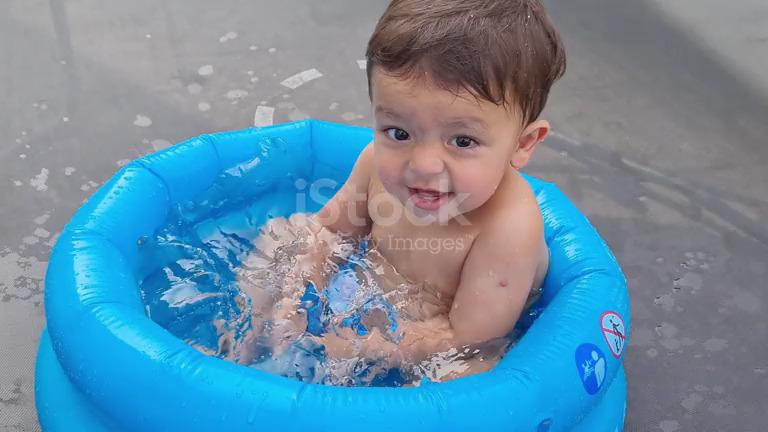Swimming: (163, 4, 581, 380)
